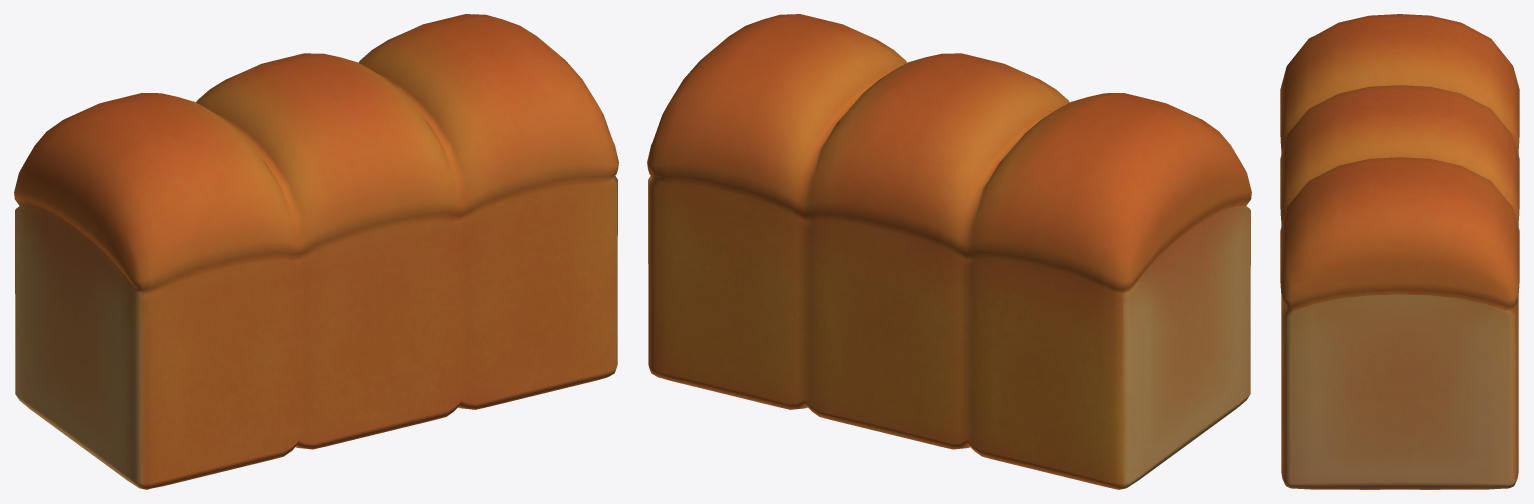
File: StackUp_Bread.fbx
3 renders of one model, left to right at view 1: azimuth 30°, elevation 25°; view 2: azimuth 150°, elevation 25°; view 3: azimuth 270°, elevation 25°, orthographic. The views are drawn at different scales.
Parts seen in each view (by area): view 1: StackUp_Bread; view 2: StackUp_Bread; view 3: StackUp_Bread.
Part boxes in pixels (<box>): StackUp_Bread: <box>14,14,618,489</box>; StackUp_Bread: <box>647,14,1251,489</box>; StackUp_Bread: <box>1280,14,1519,489</box>.
Bounding box in the file's own units: 19.61 × 12.27 × 9.16.
